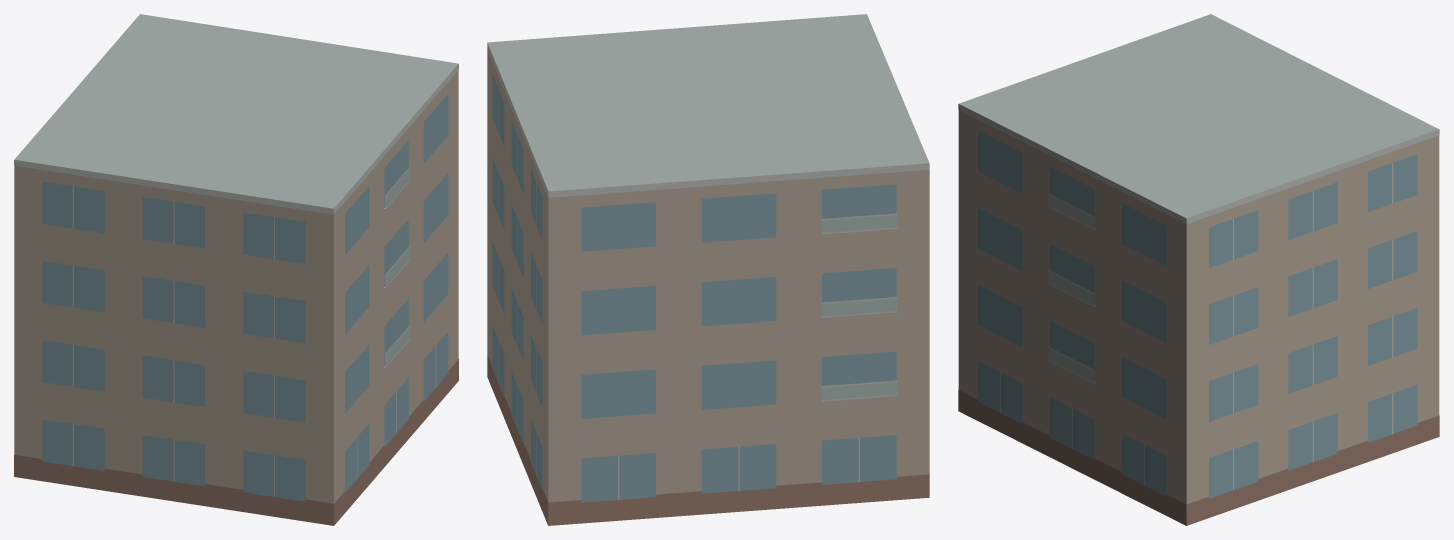
Rendered from survey-upis-32957198.glb.
The picture shows the model from 3 angles, left to right: view 1: azimuth 30°, elevation 25°; view 2: azimuth 150°, elevation 25°; view 3: azimuth 270°, elevation 25°; orthographic projection. The views are drawn at different scales.
Visible parts, largest first — view 1: survey-upis-32957198.tmp; view 2: survey-upis-32957198.tmp; view 3: survey-upis-32957198.tmp.
Boxes of the visible parts, <box> form: survey-upis-32957198.tmp: <box>14,14,458,525</box>; survey-upis-32957198.tmp: <box>487,14,929,525</box>; survey-upis-32957198.tmp: <box>958,14,1439,525</box>.
Bounding box in the file's own units: 18.11 × 12.7 × 18.01.
